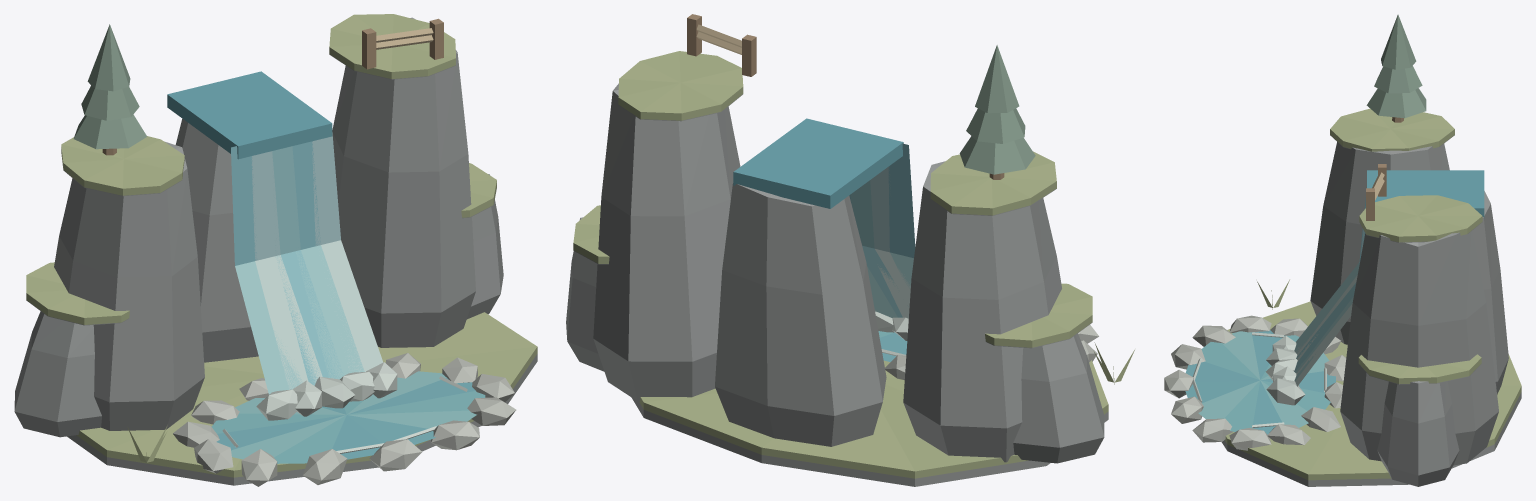
3 renders of one model, left to right at view 1: azimuth 30°, elevation 25°; view 2: azimuth 150°, elevation 25°; view 3: azimuth 270°, elevation 25°, orthographic. The views are drawn at different scales.
Parts seen in each view (by area): view 1: S05; view 2: S05; view 3: S05.
Part boxes in pixels (x1,y1,x2,y2): S05: (14,14,537,486); S05: (566,14,1134,486); S05: (1164,14,1521,486).
Bounding box in the file's own units: 5.27 × 3.87 × 3.89.
